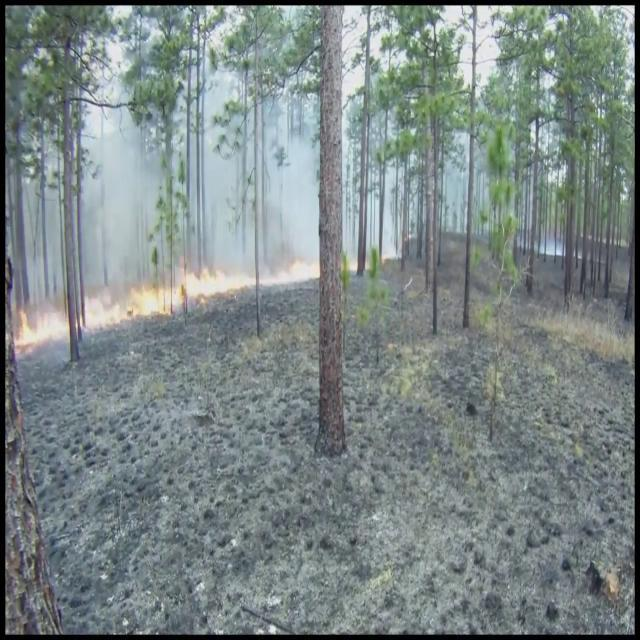Fire: (116, 262, 228, 320), (14, 300, 54, 352)
Smoke: (56, 42, 311, 294)
